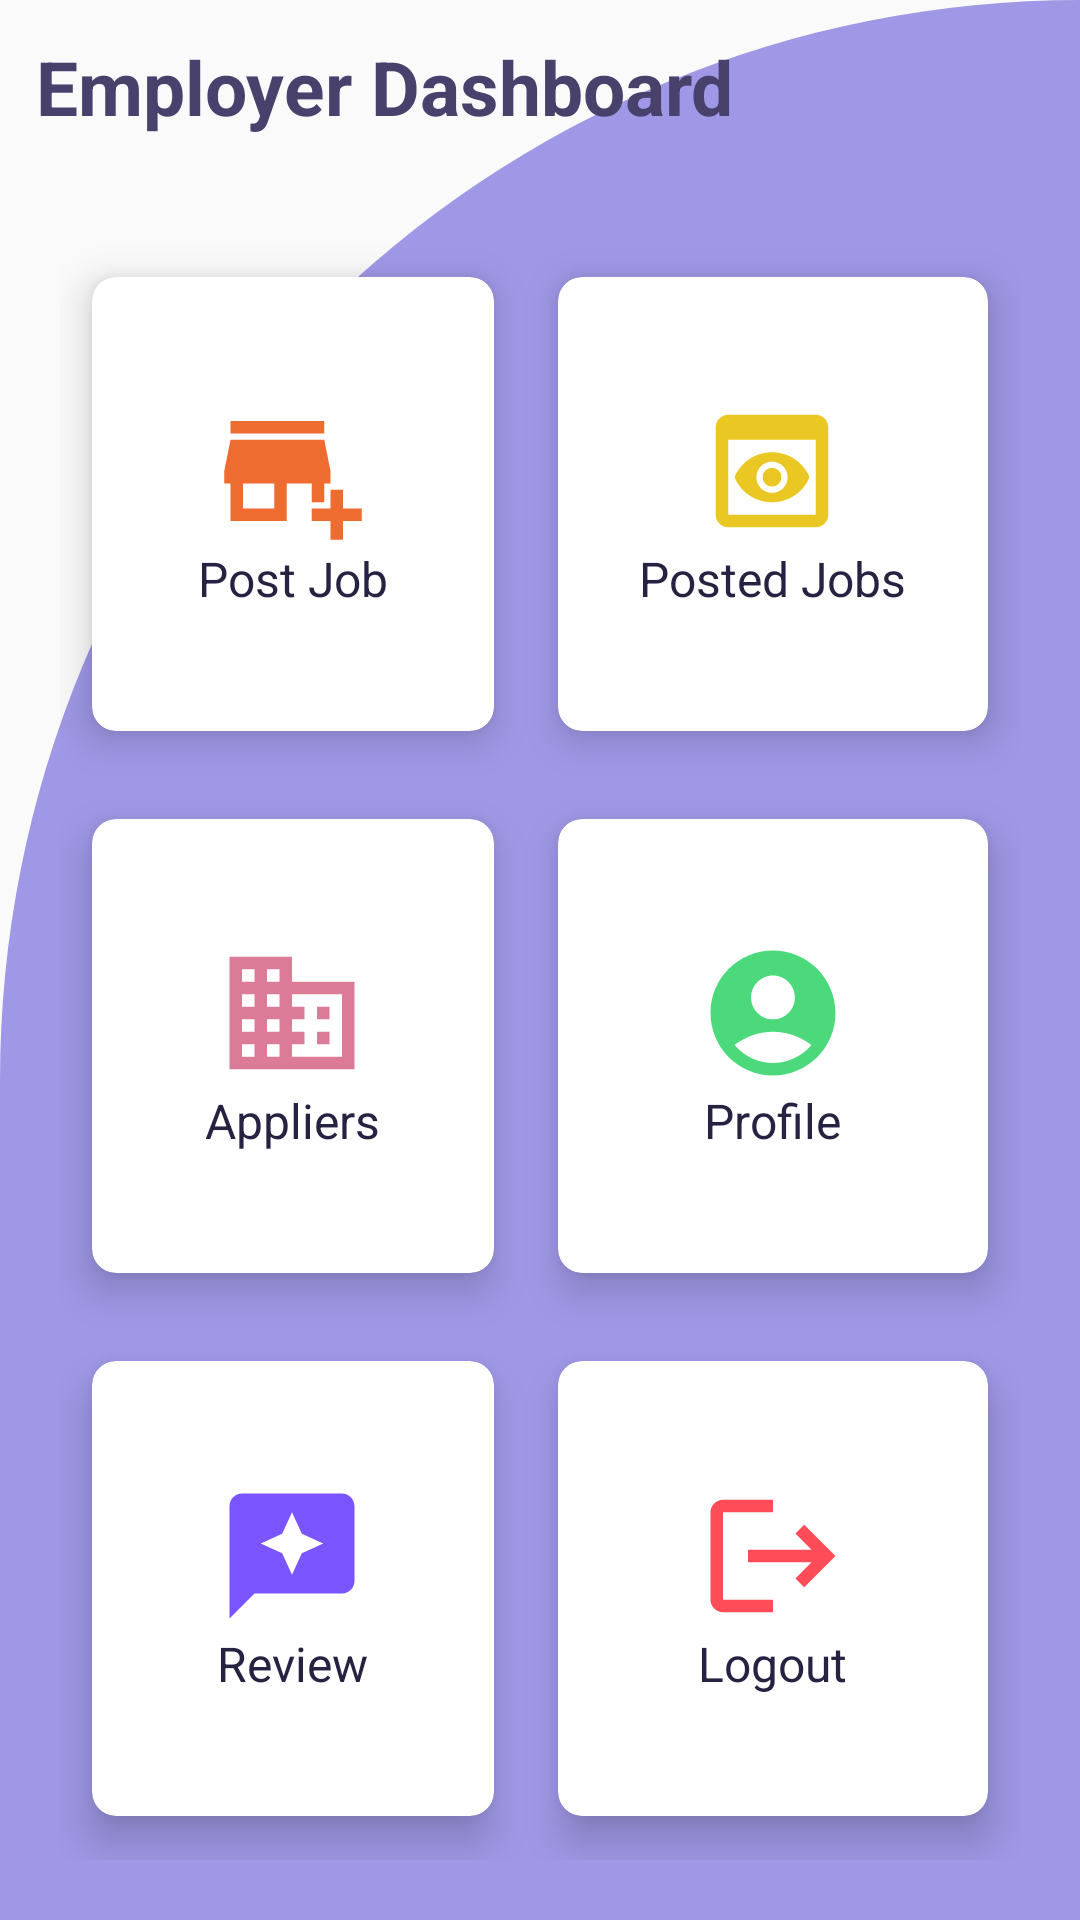

Screen size 1080w x 1920h. Icon name, then its box in pixels as (x1, y1, x2, y2):
add business: (224, 421, 362, 540)
business: (229, 956, 355, 1070)
